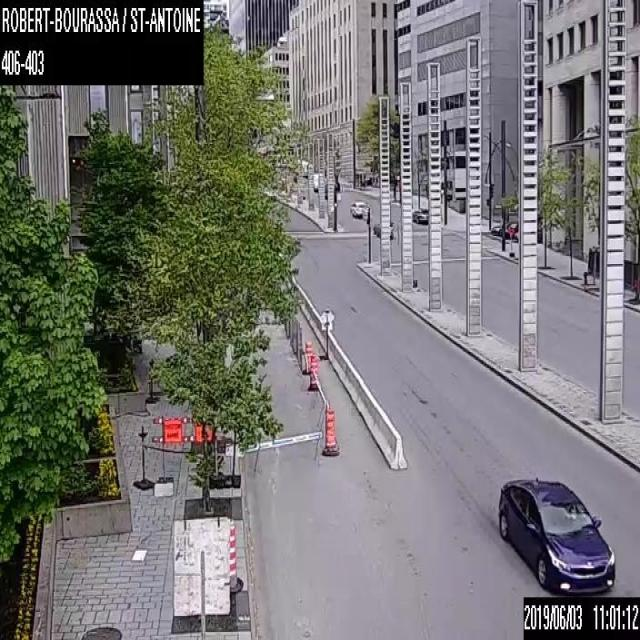construction: (172, 515, 229, 639), (152, 414, 225, 488), (229, 524, 242, 591), (322, 401, 338, 455), (307, 354, 319, 389), (302, 338, 312, 373), (508, 226, 514, 256)
vehicle: (498, 476, 616, 595), (373, 220, 393, 238), (349, 200, 366, 217), (491, 222, 511, 235), (504, 220, 518, 238), (412, 207, 428, 222), (324, 180, 339, 190)
